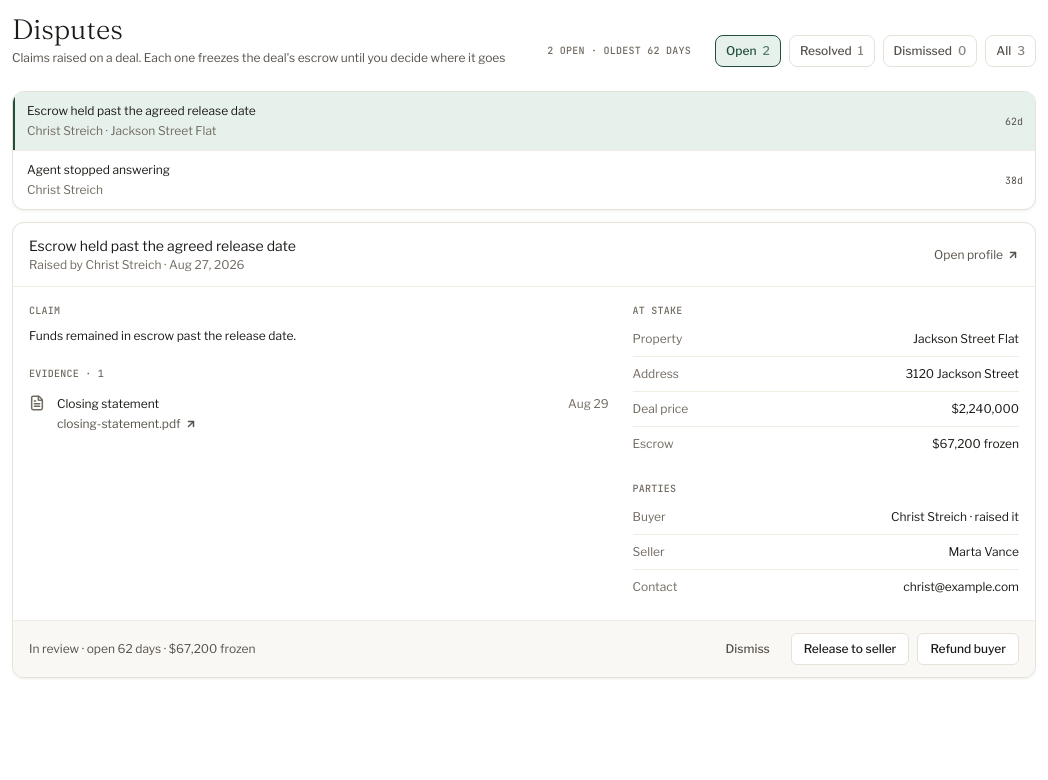
AdminDisputesConsole · 02 what can be decided › 2.1 shows a decided dispute with no action
Click the button "Resolved 1" at [832, 51], box [789, 35, 875, 67]
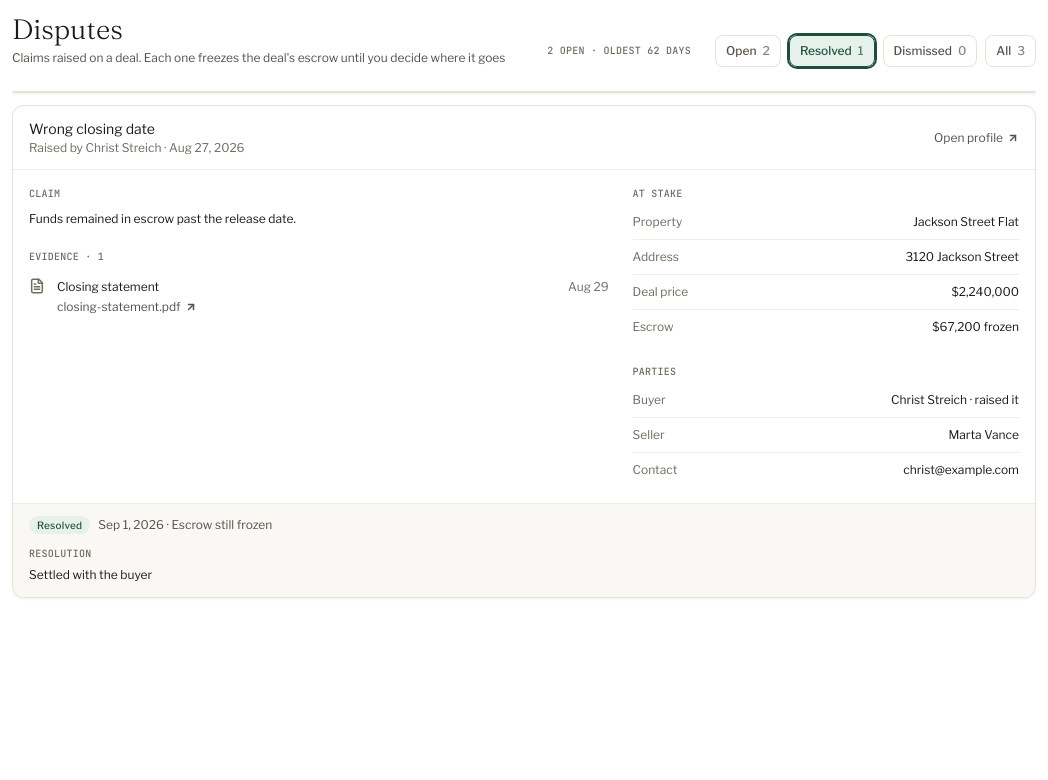
Result: the heading "Wrong closing date" is shown at [29, 120, 155, 137]
